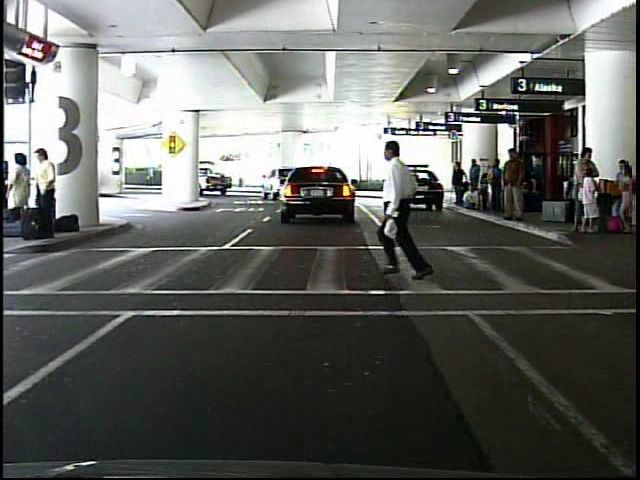person: (372, 133, 439, 289), (7, 150, 39, 240), (34, 146, 62, 242), (500, 145, 530, 225), (450, 160, 466, 206), (145, 162, 157, 188)
